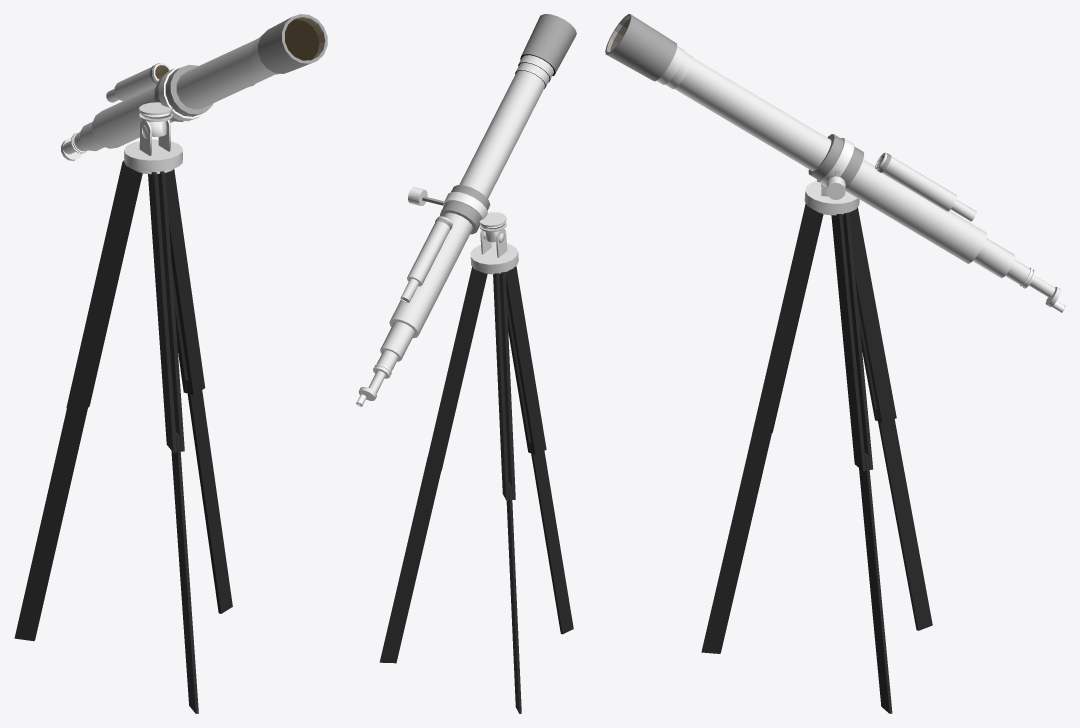
The model's file is telescopio.glb.
3 renders of one model, left to right at view 1: azimuth 30°, elevation 25°; view 2: azimuth 150°, elevation 25°; view 3: azimuth 270°, elevation 25°, orthographic. The views are drawn at different scales.
Parts seen in each view (by area): view 1: 3DSMeshMatrix (×15); view 2: 3DSMeshMatrix (×16); view 3: 3DSMeshMatrix (×13).
Boxes of the visible parts, x1,y1,x2,y2 form: 3DSMeshMatrix (×15): (14, 14, 327, 713); 3DSMeshMatrix (×16): (373, 14, 576, 713); 3DSMeshMatrix (×13): (605, 14, 1015, 713).
Size of the model in its own units: 566 by 1960 by 1232.
